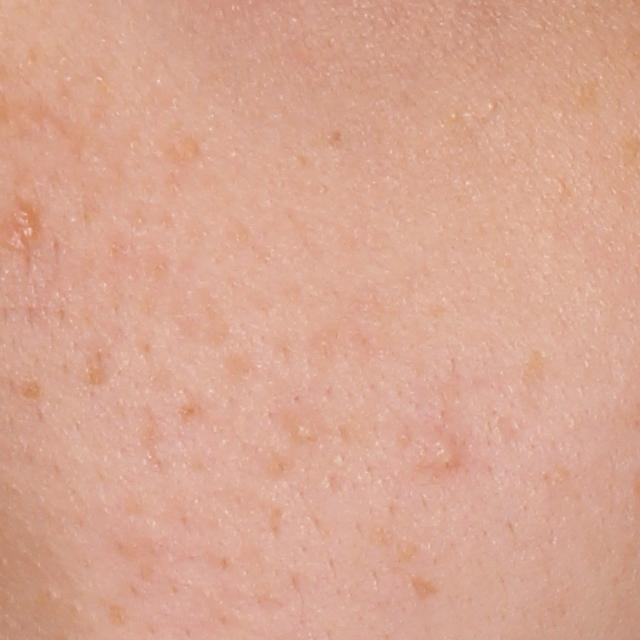comedo: (427, 437, 460, 470)
melasma: (407, 577, 445, 602)
